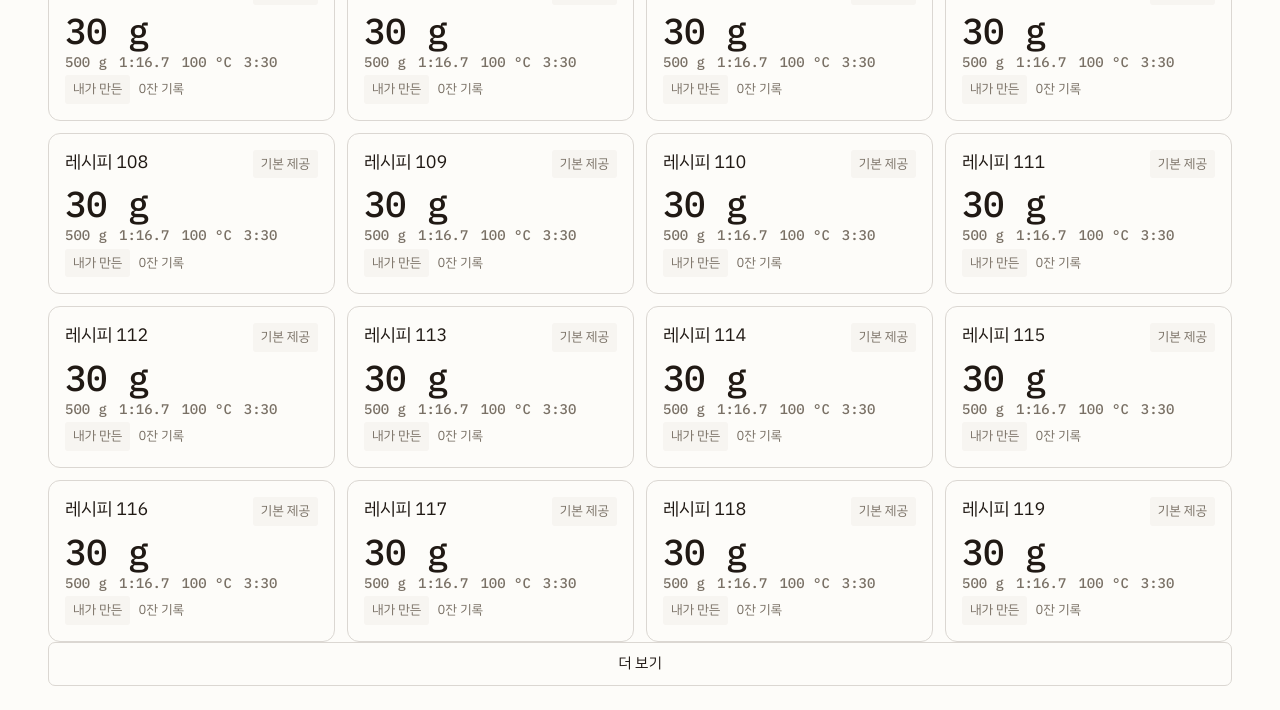
Scenario: RecipesPage › AC-RECIPESBREWS-68 · 필터가 바뀌면 누적된 페이지가 사라지고 처음부터 다시 불러온다
This screenshot has width=1280, height=710.
(page scrolled)
Click the button "더 보기" at (640, 664), box [48,642,1232,686]
(page scrolled)
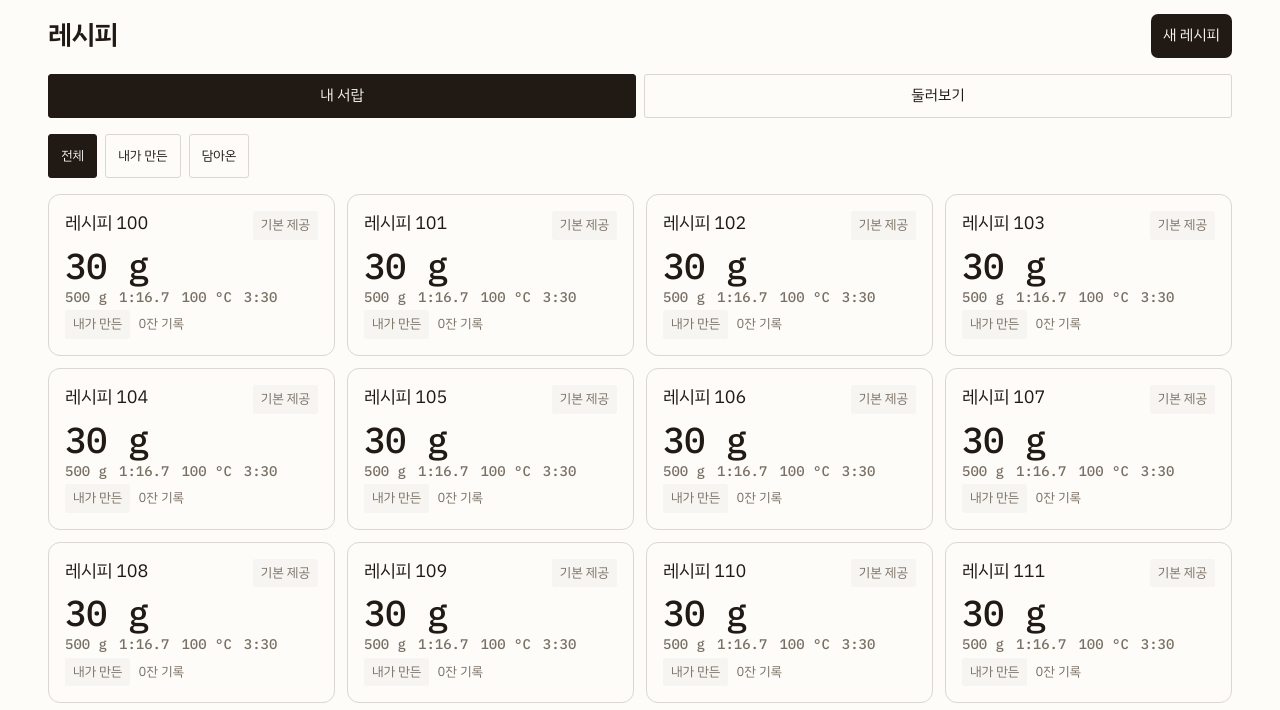
Check: the number of links "레시피 100 기본 제공 30 g 500 g 1:16.7 100 °C 3:30 내가 만든 0잔 기록" is 40
Click the tab "둘러보기" at (938, 96), box [644,74,1232,118]
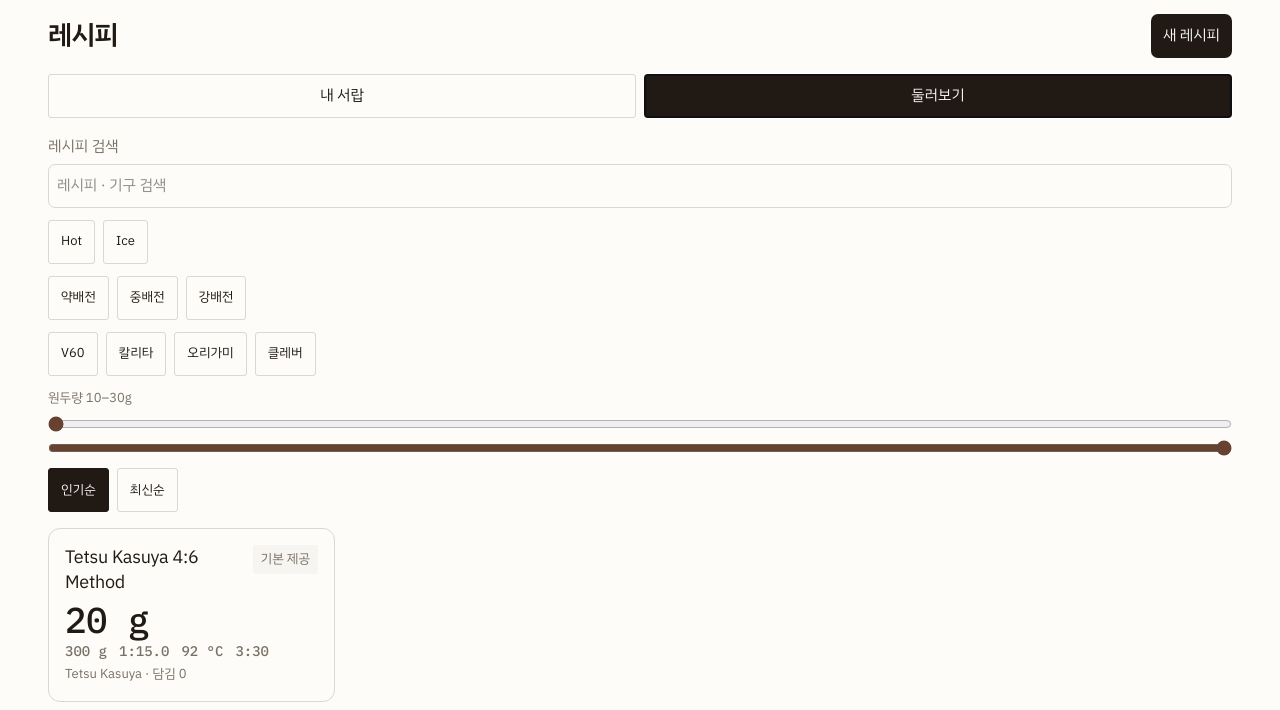
Check: the heading "Tetsu Kasuya 4:6 Method" is shown, box [65,543,198,595]
Check: no links "레시피 100" are shown
